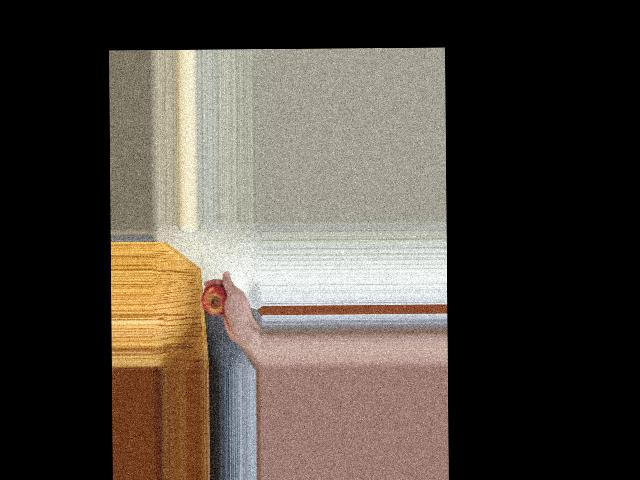apple: (200, 282, 231, 322)
